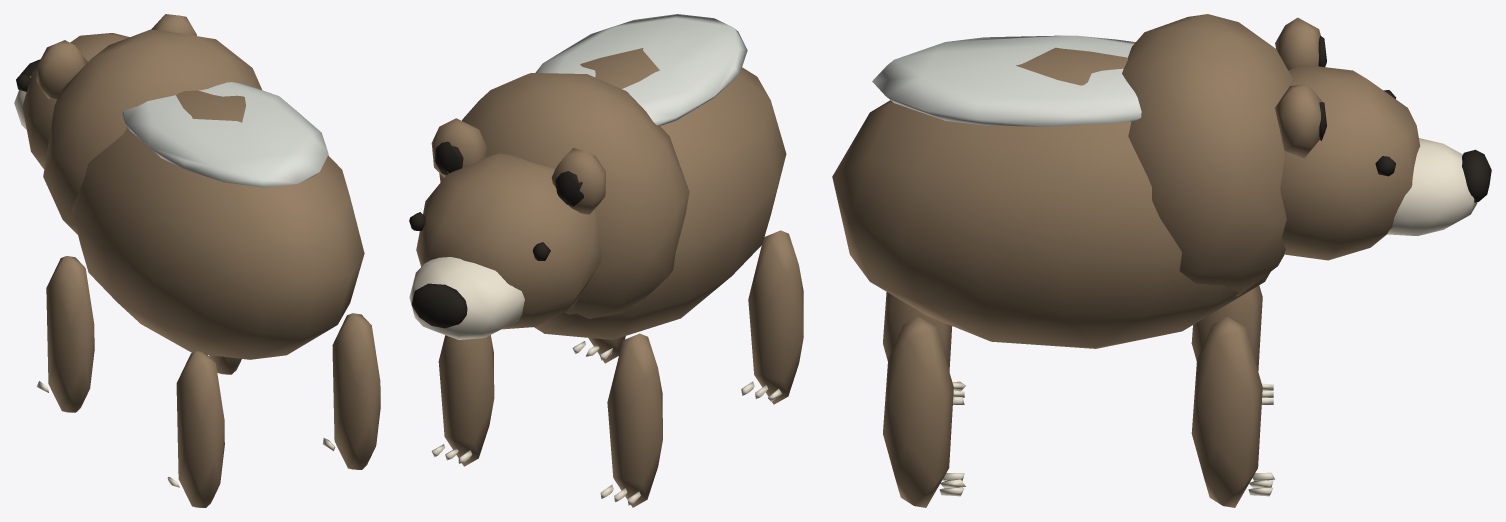
The model's file is bear.glb.
3 renders of one model, left to right at view 1: azimuth 30°, elevation 25°; view 2: azimuth 150°, elevation 25°; view 3: azimuth 270°, elevation 25°, orthographic. The views are drawn at different scales.
Parts seen in each view (by area): view 1: bear torso, snow on back, foot, foot.002, foot.003, muzzle, foot.001; view 2: bear torso, snow on back, foot.002, foot, muzzle, foot.001, nose, foot.003; view 3: bear torso, snow on back, foot.001, foot.003, muzzle, foot, nose, foot.002.
Part boxes in pixels (x1,y1,x2,y2): bear torso: [22, 14, 364, 359]; snow on back: [122, 82, 328, 187]; foot: [46, 256, 94, 412]; foot.002: [176, 351, 224, 507]; foot.003: [332, 313, 380, 469]; muzzle: [14, 76, 335, 487]; foot.001: [209, 355, 241, 374]; bear torso: [416, 48, 786, 339]; snow on back: [535, 14, 747, 126]; foot.002: [748, 230, 803, 404]; foot: [607, 333, 662, 507]; muzzle: [409, 257, 781, 505]; foot.001: [438, 335, 494, 466]; nose: [409, 141, 583, 328]; foot.003: [588, 336, 625, 363]; bear torso: [832, 14, 1420, 348]; snow on back: [872, 35, 1141, 126]; foot.001: [1191, 316, 1262, 507]; foot.003: [883, 316, 953, 507]; muzzle: [939, 138, 1477, 496]; foot: [1191, 285, 1262, 370]; nose: [1318, 36, 1491, 202]; foot.002: [883, 292, 952, 371].
Size of the model in its own units: 0.8 by 1.26 by 1.73.
